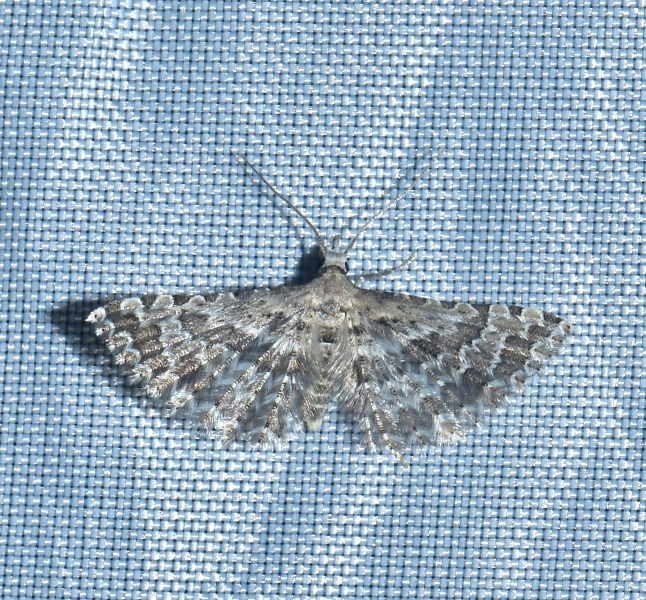Alucitidae: (80, 158, 583, 468)
moth: (78, 156, 581, 466)
